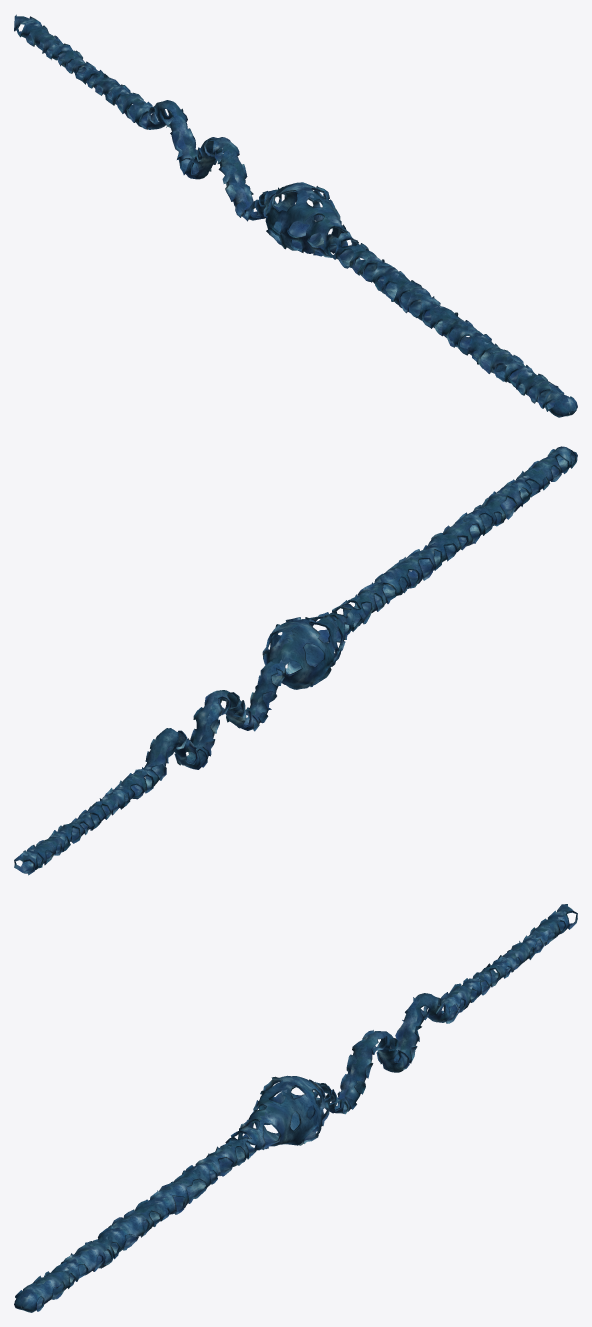
The model's file is stage1.fbx.
3 renders of one model, top to bottom at view 1: azimuth 30°, elevation 25°; view 2: azimuth 150°, elevation 25°; view 3: azimuth 330°, elevation 25°, orthographic.
Parts seen in each view (by area): view 1: stage1; view 2: stage1; view 3: stage1.
Boxes of the visible parts, x1,y1,x2,y2 form: stage1: [14, 14, 577, 417]; stage1: [14, 446, 577, 875]; stage1: [14, 904, 577, 1312].
Bounding box in the file's own units: 109 × 116 × 1694.
